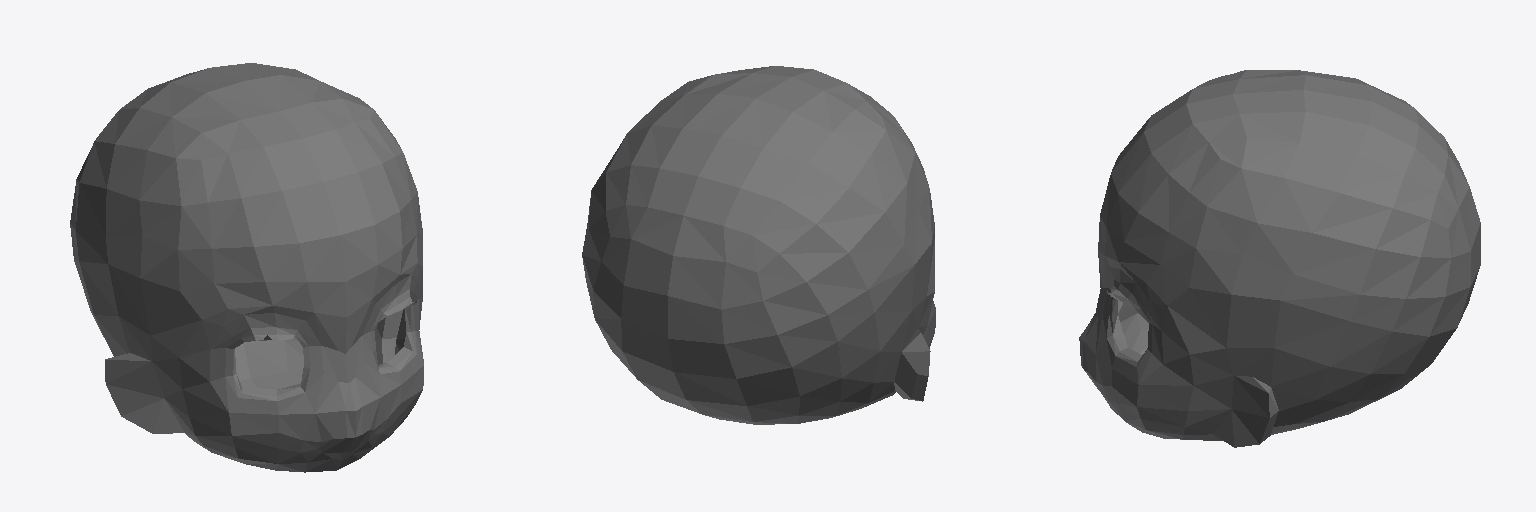
File: head.obj
3 views of the same model, side by side, from view 1: azimuth 30°, elevation 25°; view 2: azimuth 150°, elevation 25°; view 3: azimuth 270°, elevation 25° (orthographic).
Visible parts, largest first — view 1: Face03; view 2: Face03; view 3: Face03.
Part boxes in pixels (x1,y1,x2,y2): Face03: (70,63,423,472); Face03: (582,66,935,424); Face03: (1079,70,1480,447).
Bounding box in the file's own units: 46.87 × 47.43 × 51.9.